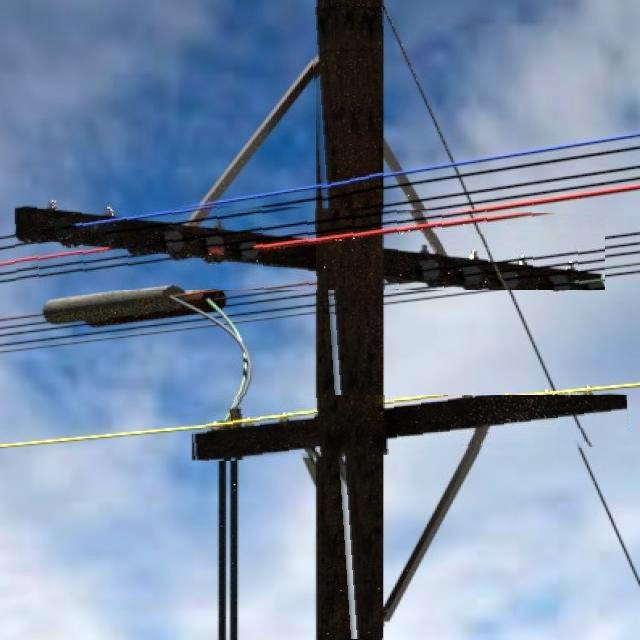crossarm: (15, 202, 605, 290), (194, 395, 627, 462)
pole: (317, 7, 383, 640)
